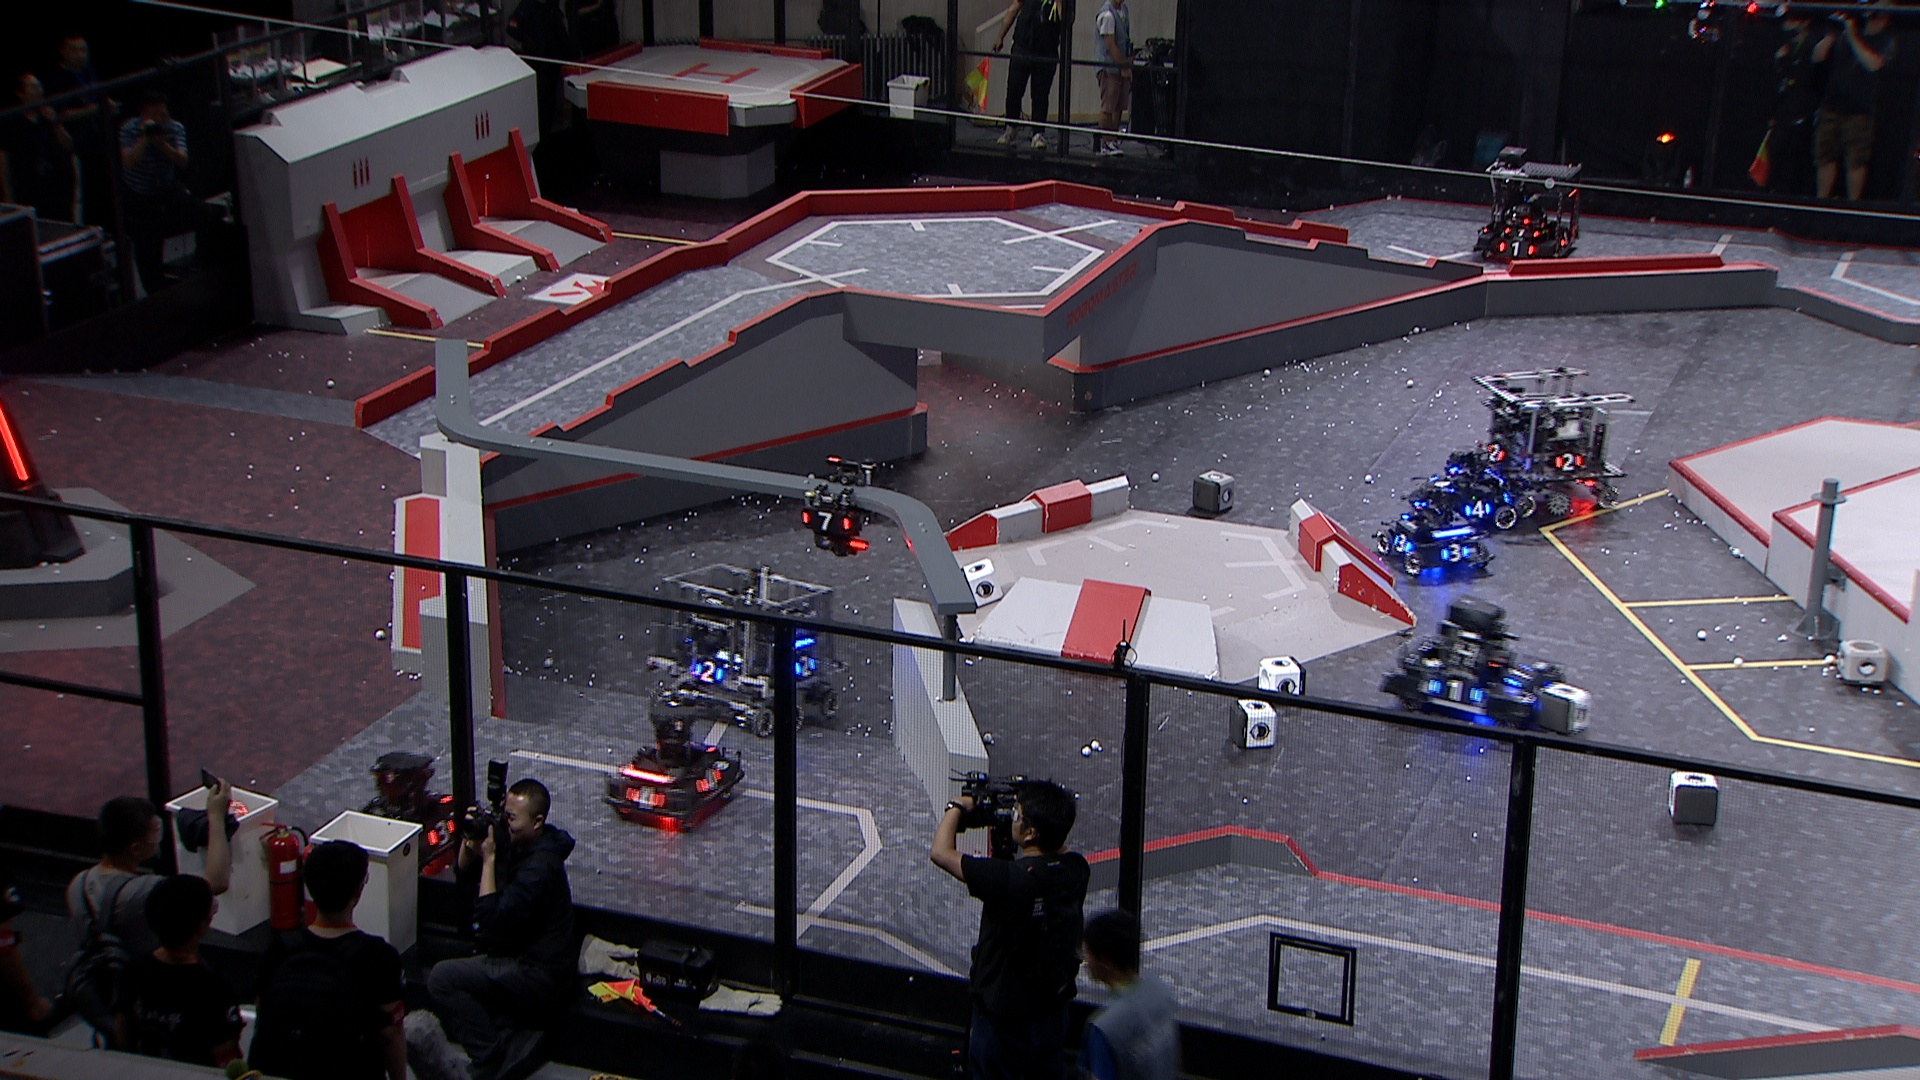armor: (0, 407, 30, 484), (1427, 679, 1485, 705), (626, 783, 670, 811), (802, 510, 855, 533), (1505, 665, 1538, 692), (429, 820, 458, 847), (694, 659, 724, 684), (793, 654, 820, 679), (698, 766, 723, 793), (1498, 240, 1536, 257), (1441, 543, 1472, 564), (1505, 223, 1542, 240), (1555, 451, 1584, 472), (1462, 498, 1491, 520), (1429, 475, 1455, 496), (1394, 531, 1415, 555), (1487, 442, 1509, 463), (1557, 232, 1576, 249)
car: (647, 559, 847, 741), (1379, 591, 1571, 742), (1466, 367, 1636, 518), (334, 746, 484, 884), (599, 703, 746, 827), (1476, 145, 1584, 262), (1373, 485, 1493, 580), (1408, 450, 1519, 534)
watcher: (799, 455, 880, 556)
